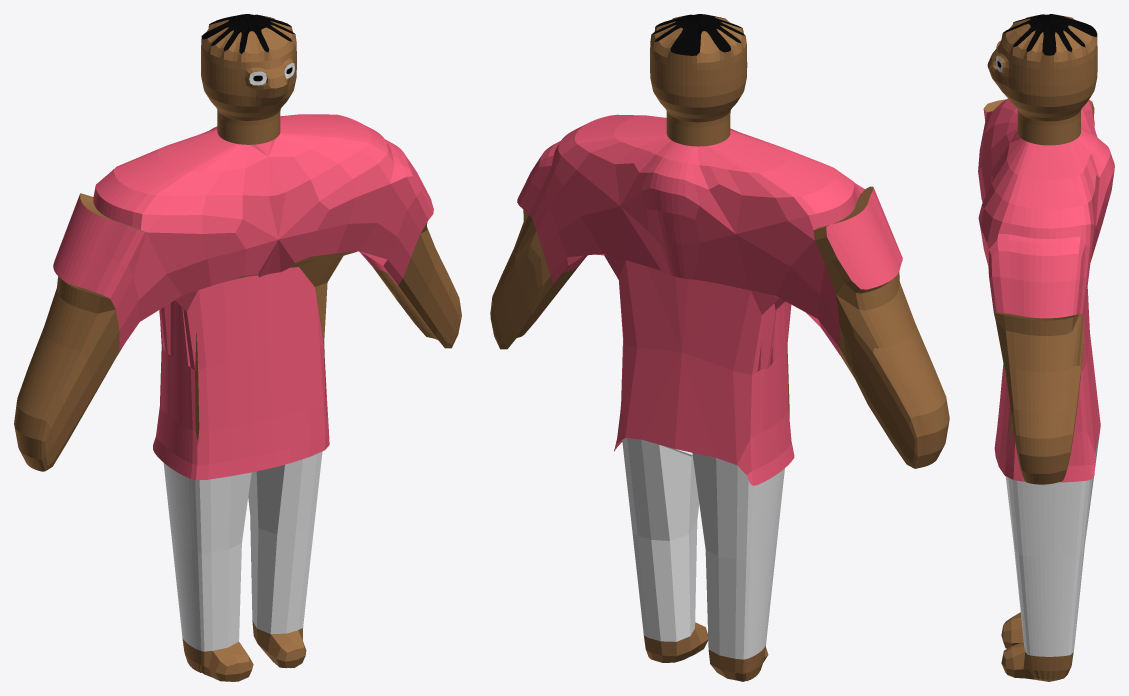
Rendered from DUMPA.fbx.
3 views of the same model, side by side, from view 1: azimuth 30°, elevation 25°; view 2: azimuth 150°, elevation 25°; view 3: azimuth 270°, elevation 25° (orthographic).
Visible parts, largest first — view 1: Cone.001, Cone, Cone.002, Cone.007; view 2: Cone.001, Cone, Cone.002, Cone.007; view 3: Cone.001, Cone, Cone.002, Cone.007.
Part boxes in pixels (bbox=[...]): Cone.001: bbox=[53, 114, 433, 480]; Cone: bbox=[14, 16, 461, 681]; Cone.002: bbox=[163, 451, 322, 651]; Cone.007: bbox=[201, 14, 295, 53]; Cone.001: bbox=[517, 114, 902, 485]; Cone: bbox=[490, 16, 949, 681]; Cone.002: bbox=[622, 438, 784, 659]; Cone.007: bbox=[652, 14, 744, 55]; Cone.001: bbox=[978, 98, 1114, 482]; Cone: bbox=[983, 16, 1097, 681]; Cone.002: bbox=[1005, 434, 1099, 656]; Cone.007: bbox=[1003, 14, 1097, 55].
Bounding box in the file's own units: 759 × 1053 × 204.
